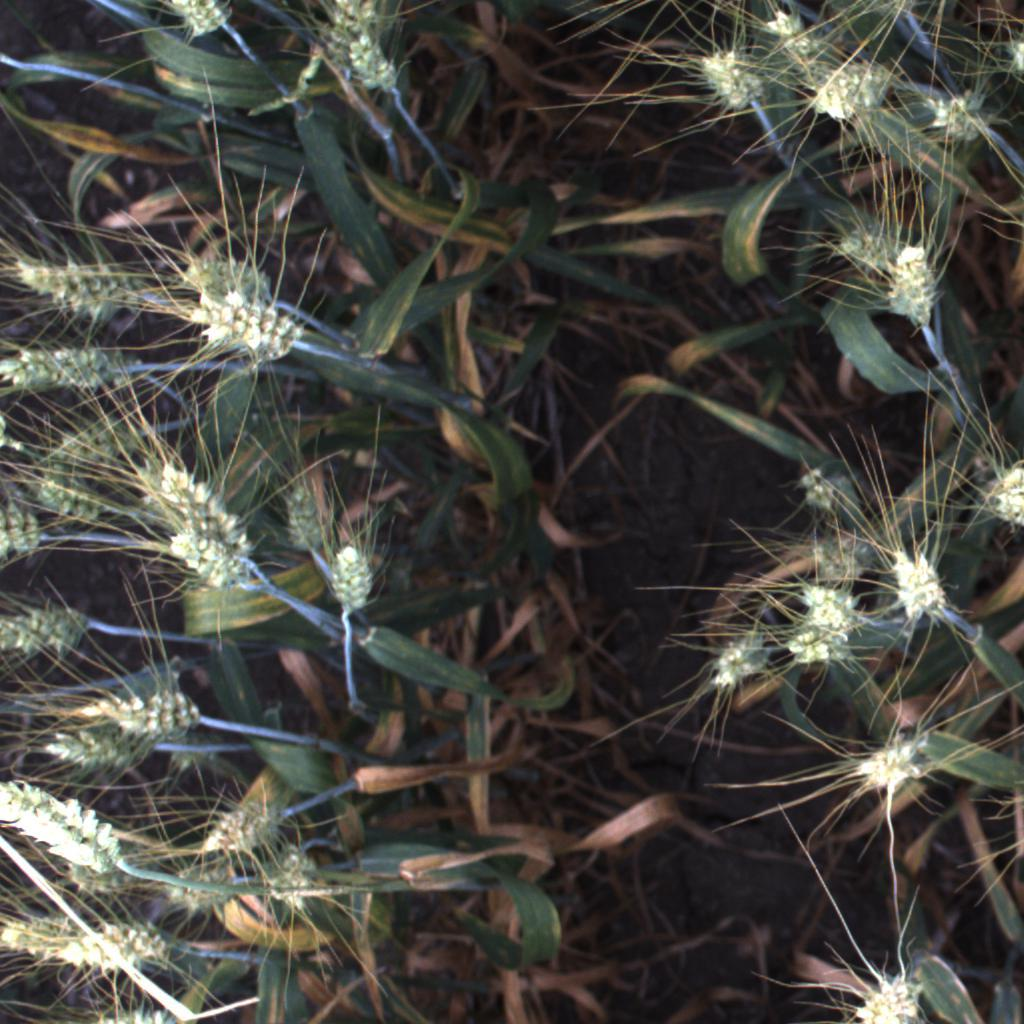0-0: (132, 433, 260, 556), (0, 765, 130, 884), (184, 284, 319, 377), (75, 669, 225, 752), (0, 323, 140, 407), (7, 241, 148, 319), (673, 26, 776, 130), (831, 724, 945, 809), (171, 234, 282, 317), (191, 781, 294, 867), (819, 956, 949, 1024), (51, 915, 187, 979), (309, 515, 396, 612), (0, 591, 105, 670), (879, 236, 947, 345), (697, 611, 776, 703), (170, 519, 269, 592), (298, 1, 396, 73), (30, 720, 162, 773), (799, 52, 903, 119), (751, 4, 848, 75), (916, 78, 998, 151), (50, 402, 150, 461), (154, 857, 248, 918), (25, 449, 97, 525), (276, 469, 336, 560), (337, 30, 409, 103), (890, 539, 947, 628), (0, 904, 85, 963), (141, 0, 241, 49), (820, 217, 898, 271), (0, 494, 55, 570), (794, 584, 869, 639), (778, 623, 852, 676), (259, 860, 336, 909), (804, 530, 867, 585), (789, 457, 847, 515), (981, 456, 1024, 533), (77, 1000, 204, 1024), (992, 30, 1023, 80)
